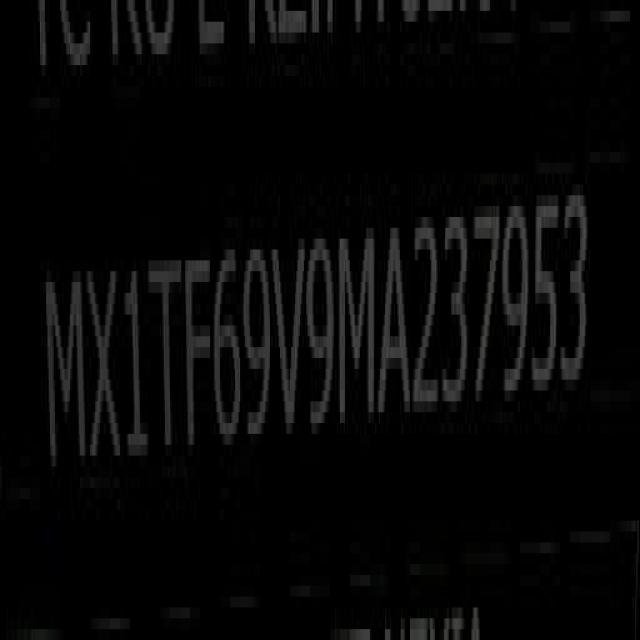1: (126, 255, 151, 463)
2: (415, 218, 438, 423)
3: (442, 205, 467, 411), (562, 179, 586, 392)
5: (535, 185, 563, 395)
6: (212, 241, 242, 446)
7: (473, 198, 496, 411)
9: (307, 227, 333, 441), (504, 197, 529, 405), (245, 242, 270, 448)
A: (382, 221, 411, 426)
F: (186, 250, 212, 460)
M: (340, 222, 377, 436)
T: (153, 255, 180, 468)
V: (276, 235, 305, 445)
W: (44, 264, 82, 484)
X: (89, 259, 121, 477)
